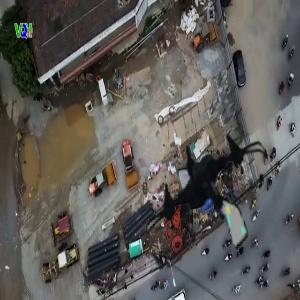drone: (139, 124, 279, 264)
